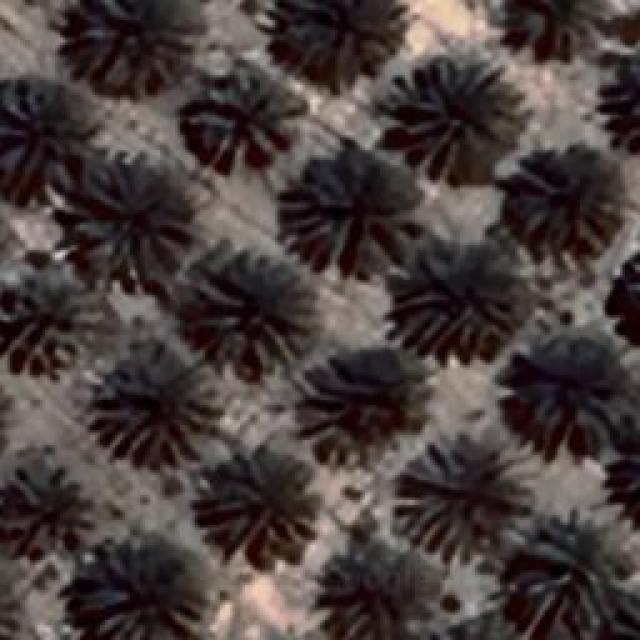PalmTree: (27, 123, 626, 467), (45, 98, 618, 300), (390, 435, 535, 563), (88, 344, 222, 468), (298, 345, 428, 470), (280, 150, 412, 272), (398, 58, 528, 180), (67, 165, 195, 288), (387, 235, 515, 355), (185, 252, 310, 370), (518, 510, 632, 630), (198, 448, 320, 560), (312, 542, 452, 638), (190, 62, 305, 168), (80, 544, 208, 638), (70, 0, 200, 92), (520, 338, 618, 452), (0, 268, 105, 370), (278, 0, 400, 78), (510, 165, 615, 248), (0, 74, 78, 182), (484, 0, 610, 63), (2, 462, 90, 550), (595, 54, 640, 152), (419, 614, 544, 640), (420, 622, 550, 640), (0, 549, 23, 640), (604, 593, 640, 640), (0, 544, 17, 640)
